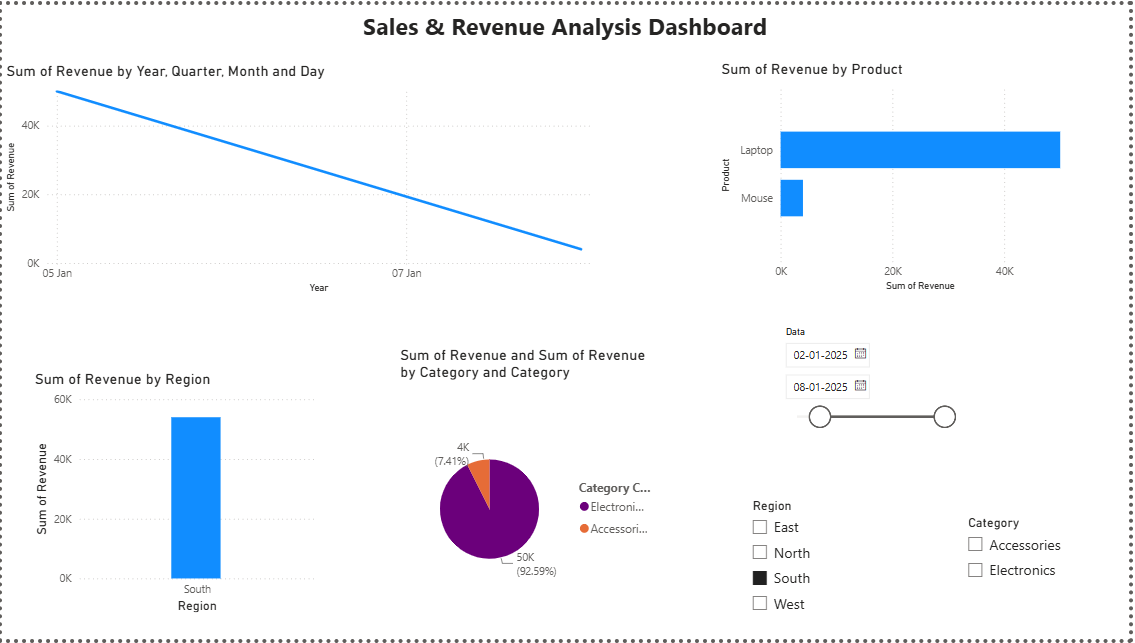

The dashboard page shown, as its layout file describes it:
{"tool":"powerbi","page":{"name":"Page 1","canvas":[1280,720],"ordinal":0},"visuals":[{"type":"pieChart","fields":{"Category":["Sheet1.Category","Sheet1.Category"],"Y":["Sum(Sheet1.Revenue)","Sum(Sheet1.Revenue)"]},"box":[447.5,387.5,300,332.5],"z":2000},{"type":"slicer","fields":{"Values":["Sheet1.Region"]},"box":[840,555,212.5,147.5],"z":3000},{"type":"slicer","fields":{"Values":["Sheet1.Category"]},"box":[1085,575,195,145],"z":4000},{"type":"slicer","fields":{"Values":["Sheet1.Data"]},"box":[877.5,360,215,137.5],"z":5000},{"type":"textbox","box":[195,0,890,62.5],"z":6000},{"type":"lineChart","fields":{"Y":["Sum(Sheet1.Revenue)"],"Category":["Sheet1.Data.Variation.Date Hierarchy.Year","Sheet1.Data.Variation.Date Hierarchy.Quarter","Sheet1.Data.Variation.Date Hierarchy.Month","Sheet1.Data.Variation.Date Hierarchy.Day"]},"box":[0,65,680,267.5],"z":7000},{"type":"clusteredColumnChart","fields":{"Category":["Sheet1.Region"],"Y":["Sum(Sheet1.Revenue)"]},"box":[32.5,415,327.5,280],"z":7001},{"type":"clusteredBarChart","fields":{"Category":["Sheet1.Product"],"Y":["Sum(Sheet1.Revenue)"]},"box":[812.5,62.5,405,267.5],"z":7002}]}

Visuals, with their boxes in screenshot pixels (x1, y1, x2, y2), scaled from the page's 1280x720 canvas onto the 1135x643 screenshot:
pieChart - Sheet1.Category x Sheet1.Category: (x1=397, y1=346, x2=663, y2=642)
slicer - Sheet1.Region: (x1=745, y1=496, x2=933, y2=627)
slicer - Sheet1.Category: (x1=962, y1=514, x2=1134, y2=642)
slicer - Sheet1.Data: (x1=778, y1=322, x2=969, y2=444)
textbox: (x1=173, y1=0, x2=962, y2=56)
lineChart - Sum(Sheet1.Revenue) x Sheet1.Data.Variation.Date Hierarchy.Year: (x1=0, y1=58, x2=603, y2=297)
clusteredColumnChart - Sheet1.Region x Sum(Sheet1.Revenue): (x1=29, y1=371, x2=319, y2=621)
clusteredBarChart - Sheet1.Product x Sum(Sheet1.Revenue): (x1=720, y1=56, x2=1080, y2=295)
